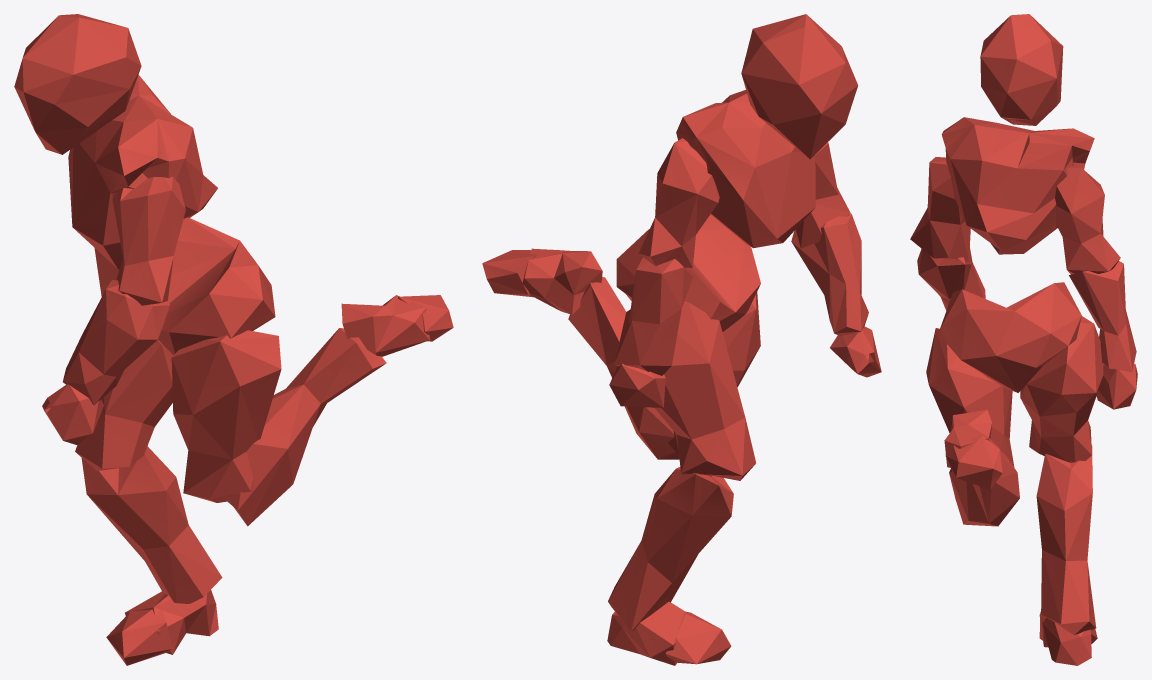
The model's file is 2dancer0197.obj.
3 views of the same model, side by side, from view 1: azimuth 30°, elevation 25°; view 2: azimuth 150°, elevation 25°; view 3: azimuth 270°, elevation 25° (orthographic). The views are drawn at different scales.
Visible parts, largest first — view 1: Beta_Surface; view 2: Beta_Surface; view 3: Beta_Surface.
Boxes of the visible parts, x1,y1,x2,y2 form: Beta_Surface: (14,14,453,665); Beta_Surface: (482,14,881,665); Beta_Surface: (910,14,1137,665).
Bounding box in the file's own units: 1.06 × 1.7 × 0.5982.
